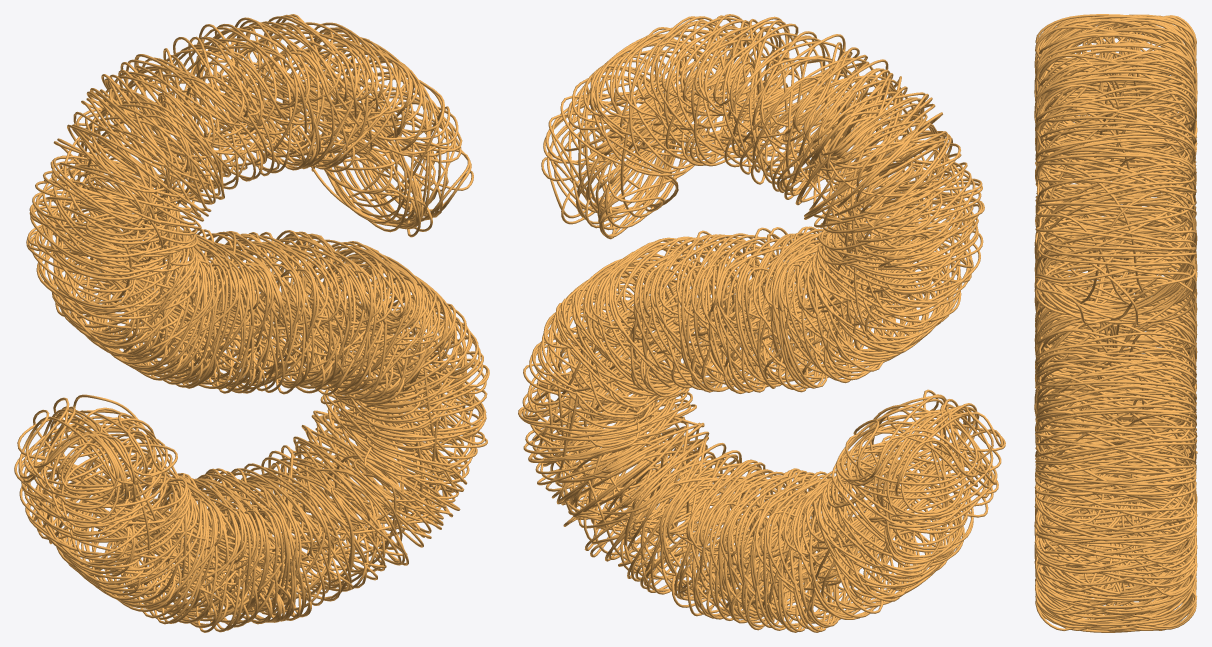
The picture shows the model from 3 angles, left to right: view 1: azimuth 30°, elevation 25°; view 2: azimuth 150°, elevation 25°; view 3: azimuth 270°, elevation 25°; orthographic projection.
Visible parts, largest first — view 1: letter_s; view 2: letter_s; view 3: letter_s.
Part boxes in pixels (box(x1,y1,x2,y2)): letter_s: box(14, 14, 489, 632); letter_s: box(518, 14, 1005, 632); letter_s: box(1034, 14, 1197, 632).
Size of the model in its own units: 0.4798 by 0.6097 by 0.161.
